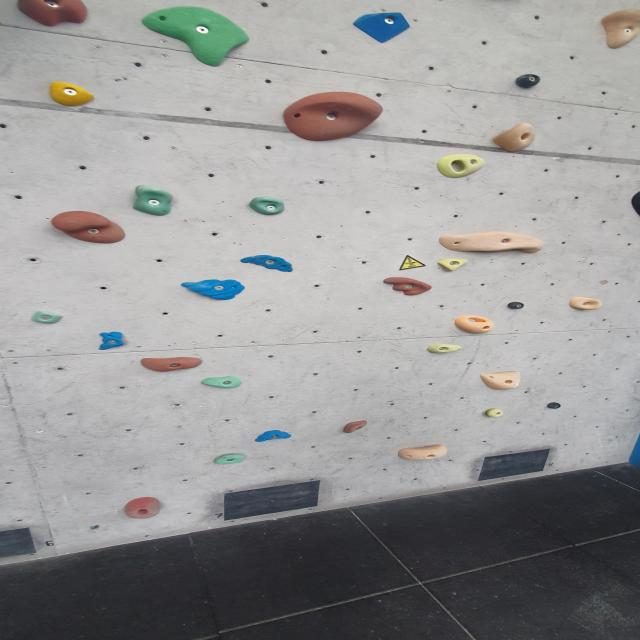Crimp: (140, 6, 257, 66), (178, 279, 248, 300), (46, 82, 100, 109), (382, 276, 436, 296), (140, 357, 207, 372), (239, 255, 296, 272), (397, 445, 450, 462), (194, 374, 248, 390), (98, 330, 130, 351), (211, 451, 249, 466), (340, 420, 372, 436), (425, 343, 466, 355), (254, 430, 294, 440), (480, 408, 510, 420)
Jug: (431, 230, 551, 255), (48, 210, 129, 244), (596, 8, 640, 52), (130, 184, 178, 216), (492, 124, 540, 154), (121, 495, 166, 522), (244, 195, 286, 216), (568, 296, 604, 311)
Pocket: (438, 151, 491, 178), (478, 370, 530, 389), (457, 313, 497, 334)
Sloper: (282, 94, 388, 145)
